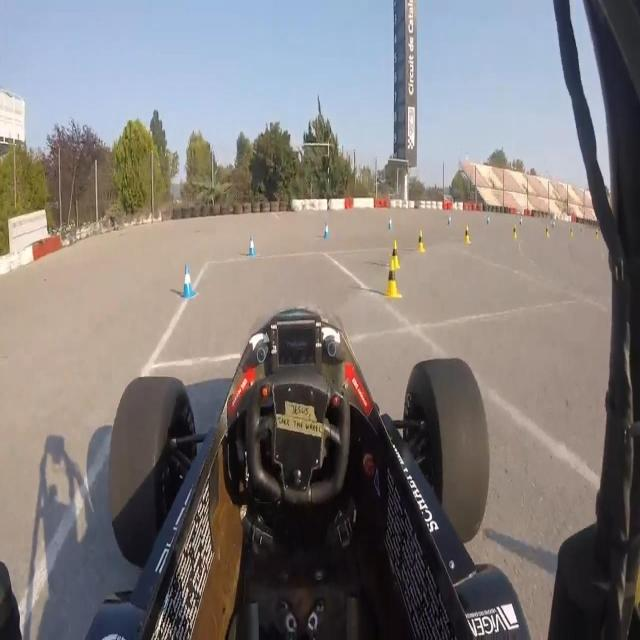blue_cone: (180, 263, 196, 299), (248, 234, 257, 256), (323, 221, 330, 241), (387, 215, 394, 231)
yellow_cone: (384, 259, 400, 299), (390, 239, 400, 270), (418, 230, 426, 254), (464, 224, 471, 246), (513, 223, 518, 239)
